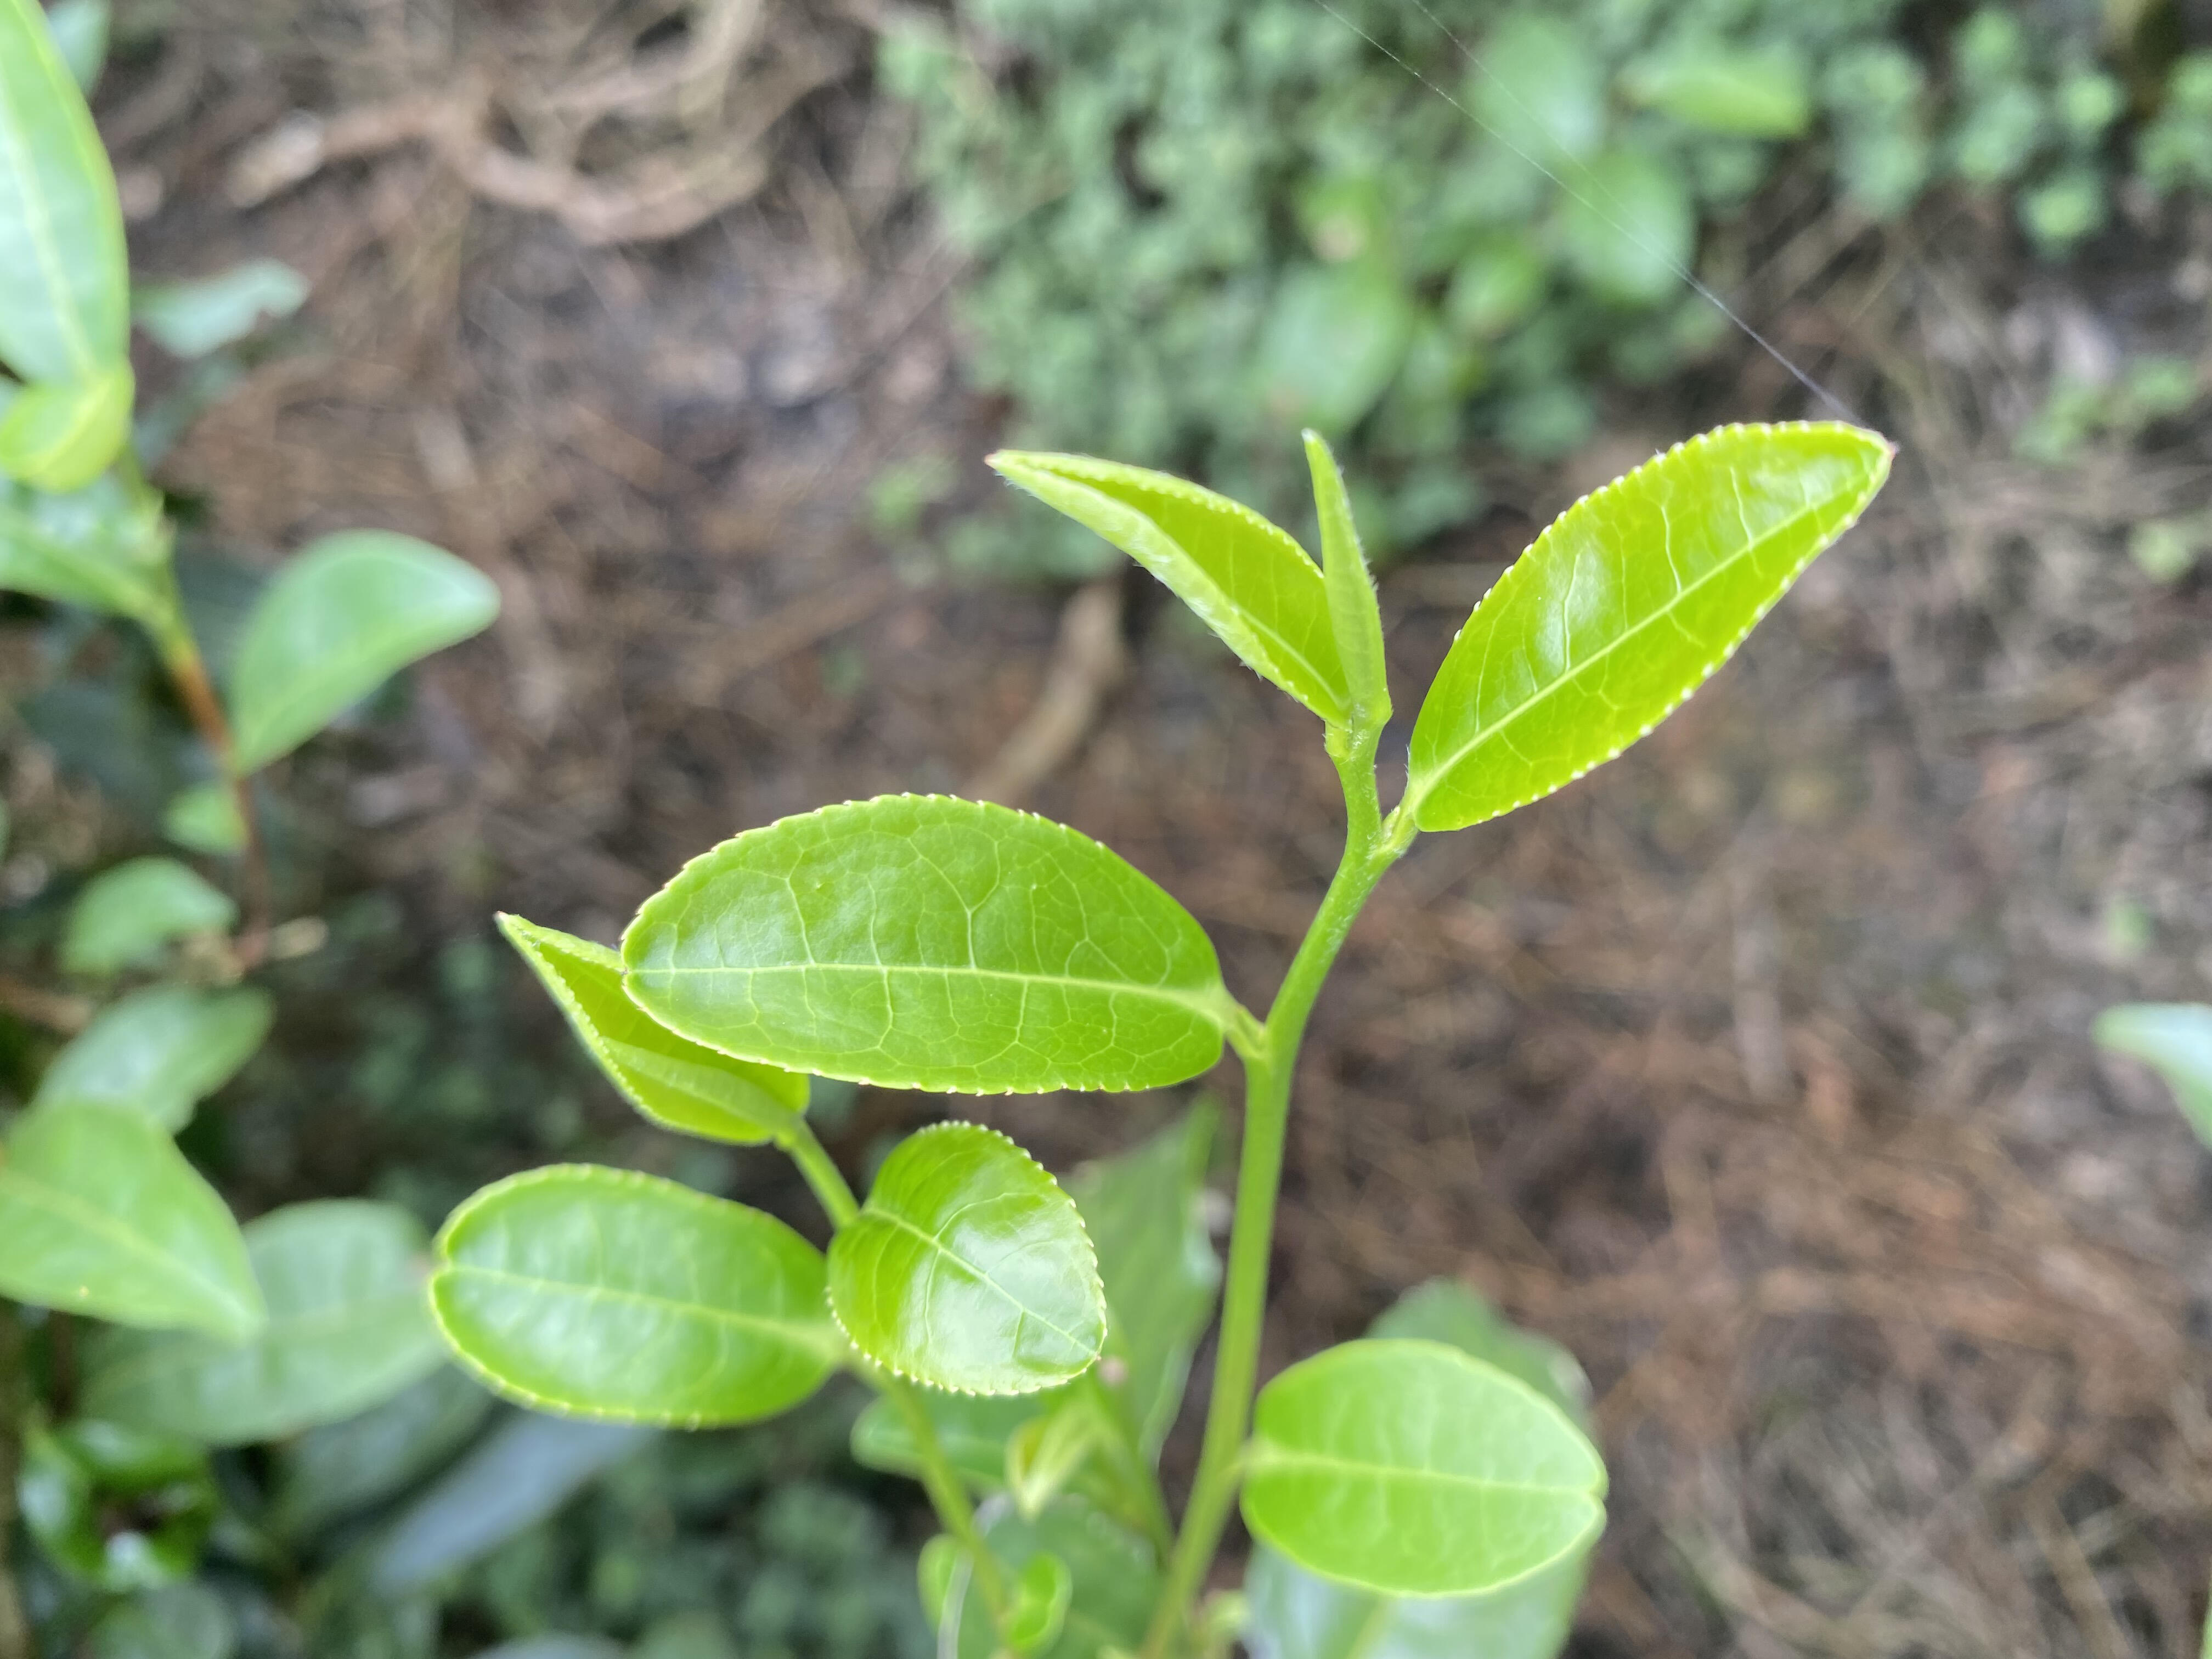healthy: (1406, 418, 1890, 842), (624, 791, 1230, 1094), (427, 1164, 843, 1427), (988, 444, 1359, 734), (1237, 1338, 1606, 1598), (822, 1119, 1111, 1398)
